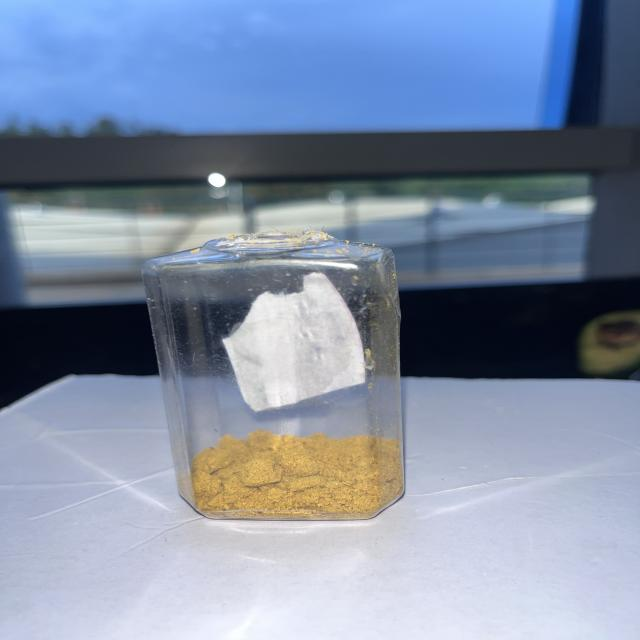curry_powder: (182, 429, 409, 522)
